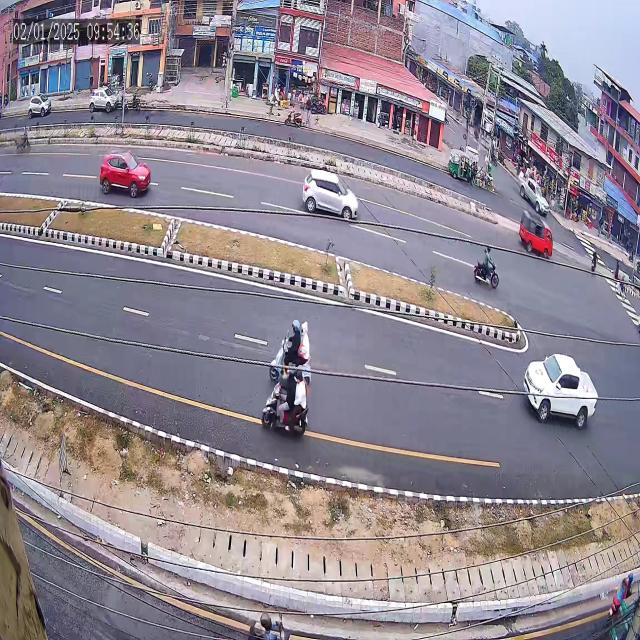car: (509, 331, 607, 444), (291, 156, 371, 237), (89, 136, 163, 210), (517, 162, 556, 222), (25, 88, 59, 124)
motorcycle: (250, 359, 318, 445), (269, 303, 320, 391), (456, 231, 508, 297)
van: (516, 198, 557, 266)
